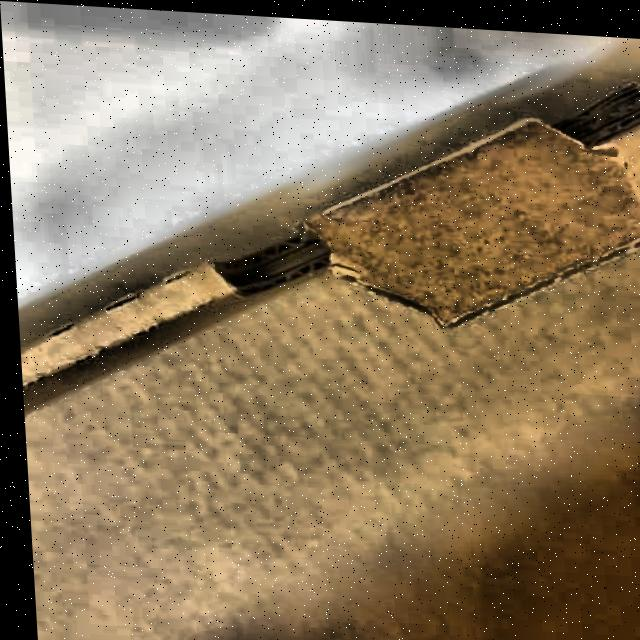cardboard: (3, 44, 640, 640)
